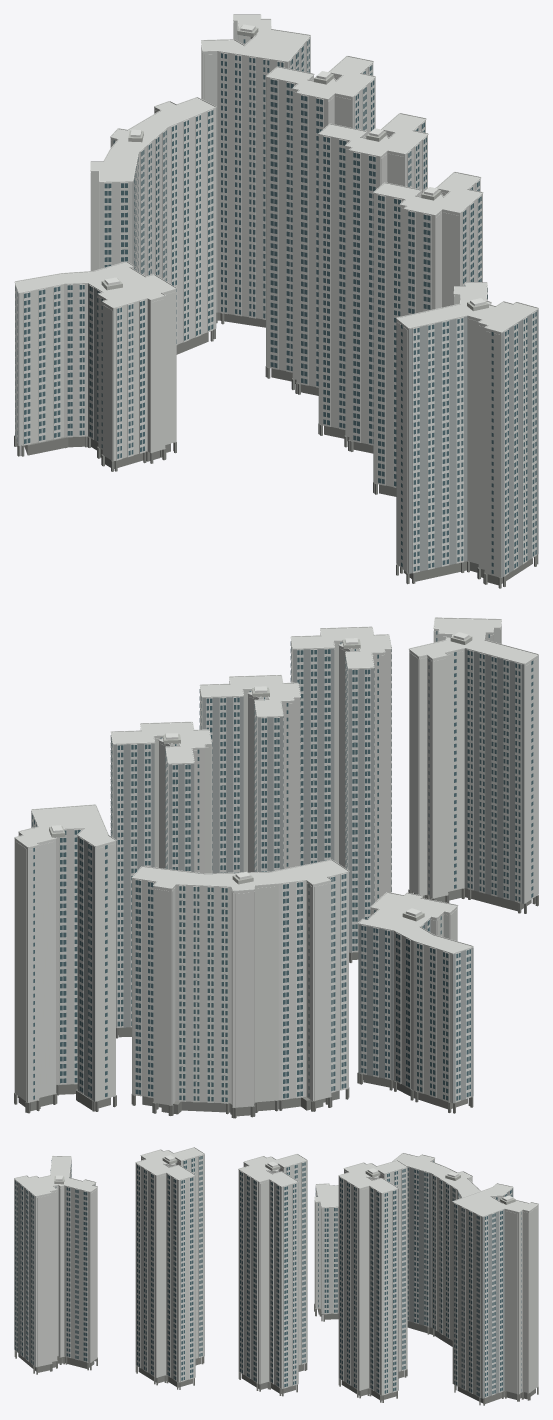
The model's file is representative-a10026207.glb.
3 views of the same model, one above another, from view 1: azimuth 30°, elevation 25°; view 2: azimuth 150°, elevation 25°; view 3: azimuth 270°, elevation 25° (orthographic). The views are drawn at different scales.
Parts seen in each view (by area): view 1: A10026207_wall001, A10026207_trim001, A10026207_glass001, A10026207_accent001, A10026207_base001, A10026207_roof001; view 2: A10026207_wall001, A10026207_trim001, A10026207_glass001, A10026207_accent001, A10026207_base001, A10026207_roof001; view 3: A10026207_wall001, A10026207_trim001, A10026207_glass001, A10026207_accent001, A10026207_base001, A10026207_roof001.
Boxes of the visible parts, box(x1,y1,x2,y2) form: A10026207_wall001: box(15, 15, 537, 577); A10026207_trim001: box(14, 14, 538, 576); A10026207_glass001: box(15, 35, 536, 574); A10026207_accent001: box(16, 37, 538, 577); A10026207_base001: box(14, 312, 538, 588); A10026207_roof001: box(101, 25, 488, 311); A10026207_wall001: box(14, 618, 538, 1107); A10026207_trim001: box(14, 617, 538, 1103); A10026207_glass001: box(32, 631, 533, 1101); A10026207_accent001: box(31, 648, 538, 1103); A10026207_base001: box(14, 888, 538, 1118); A10026207_roof001: box(49, 636, 472, 921); A10026207_wall001: box(15, 1148, 538, 1398); A10026207_trim001: box(14, 1147, 538, 1397); A10026207_glass001: box(15, 1156, 521, 1396); A10026207_accent001: box(14, 1154, 513, 1398); A10026207_base001: box(14, 1303, 538, 1405); A10026207_roof001: box(54, 1157, 515, 1204).
Size of the model in its own units: 148 by 116 by 259.
